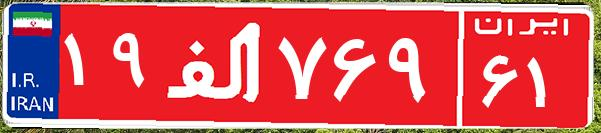1: (57, 26, 110, 107), (525, 38, 570, 115)
6: (330, 28, 385, 110), (475, 38, 525, 113)
7: (273, 28, 330, 110)
9: (385, 28, 445, 110), (110, 28, 158, 105)
الف: (158, 15, 273, 115)
